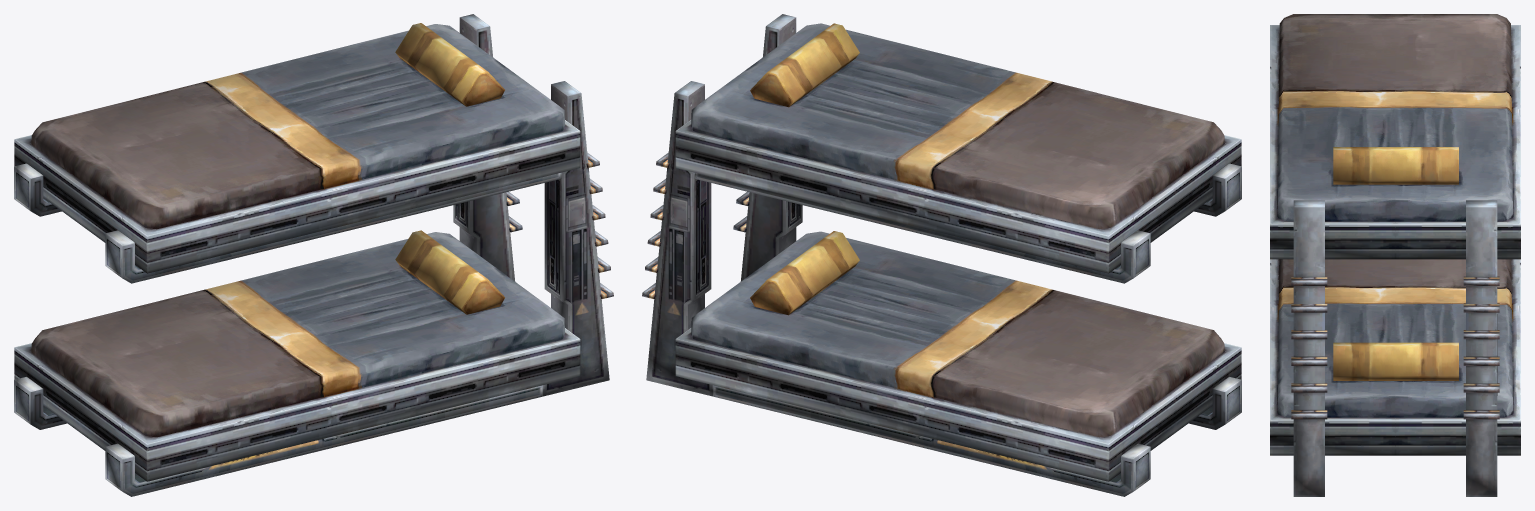
The model's file is item_furn_barracks_bunk_imperial.glb.
The picture shows the model from 3 angles, left to right: view 1: azimuth 30°, elevation 25°; view 2: azimuth 150°, elevation 25°; view 3: azimuth 270°, elevation 25°; orthographic projection. The views are drawn at different scales.
Visible parts, largest first — view 1: item_furn_barracks_bunk_imperial; view 2: item_furn_barracks_bunk_imperial; view 3: item_furn_barracks_bunk_imperial.
Boxes of the visible parts, x1,y1,x2,y2 form: item_furn_barracks_bunk_imperial: (14,14,613,496); item_furn_barracks_bunk_imperial: (642,14,1241,496); item_furn_barracks_bunk_imperial: (1270,14,1520,496).
Bounding box in the file's own units: 0.422 × 0.2611 × 0.1979.
Materials: 1 (1 with a texture image).
